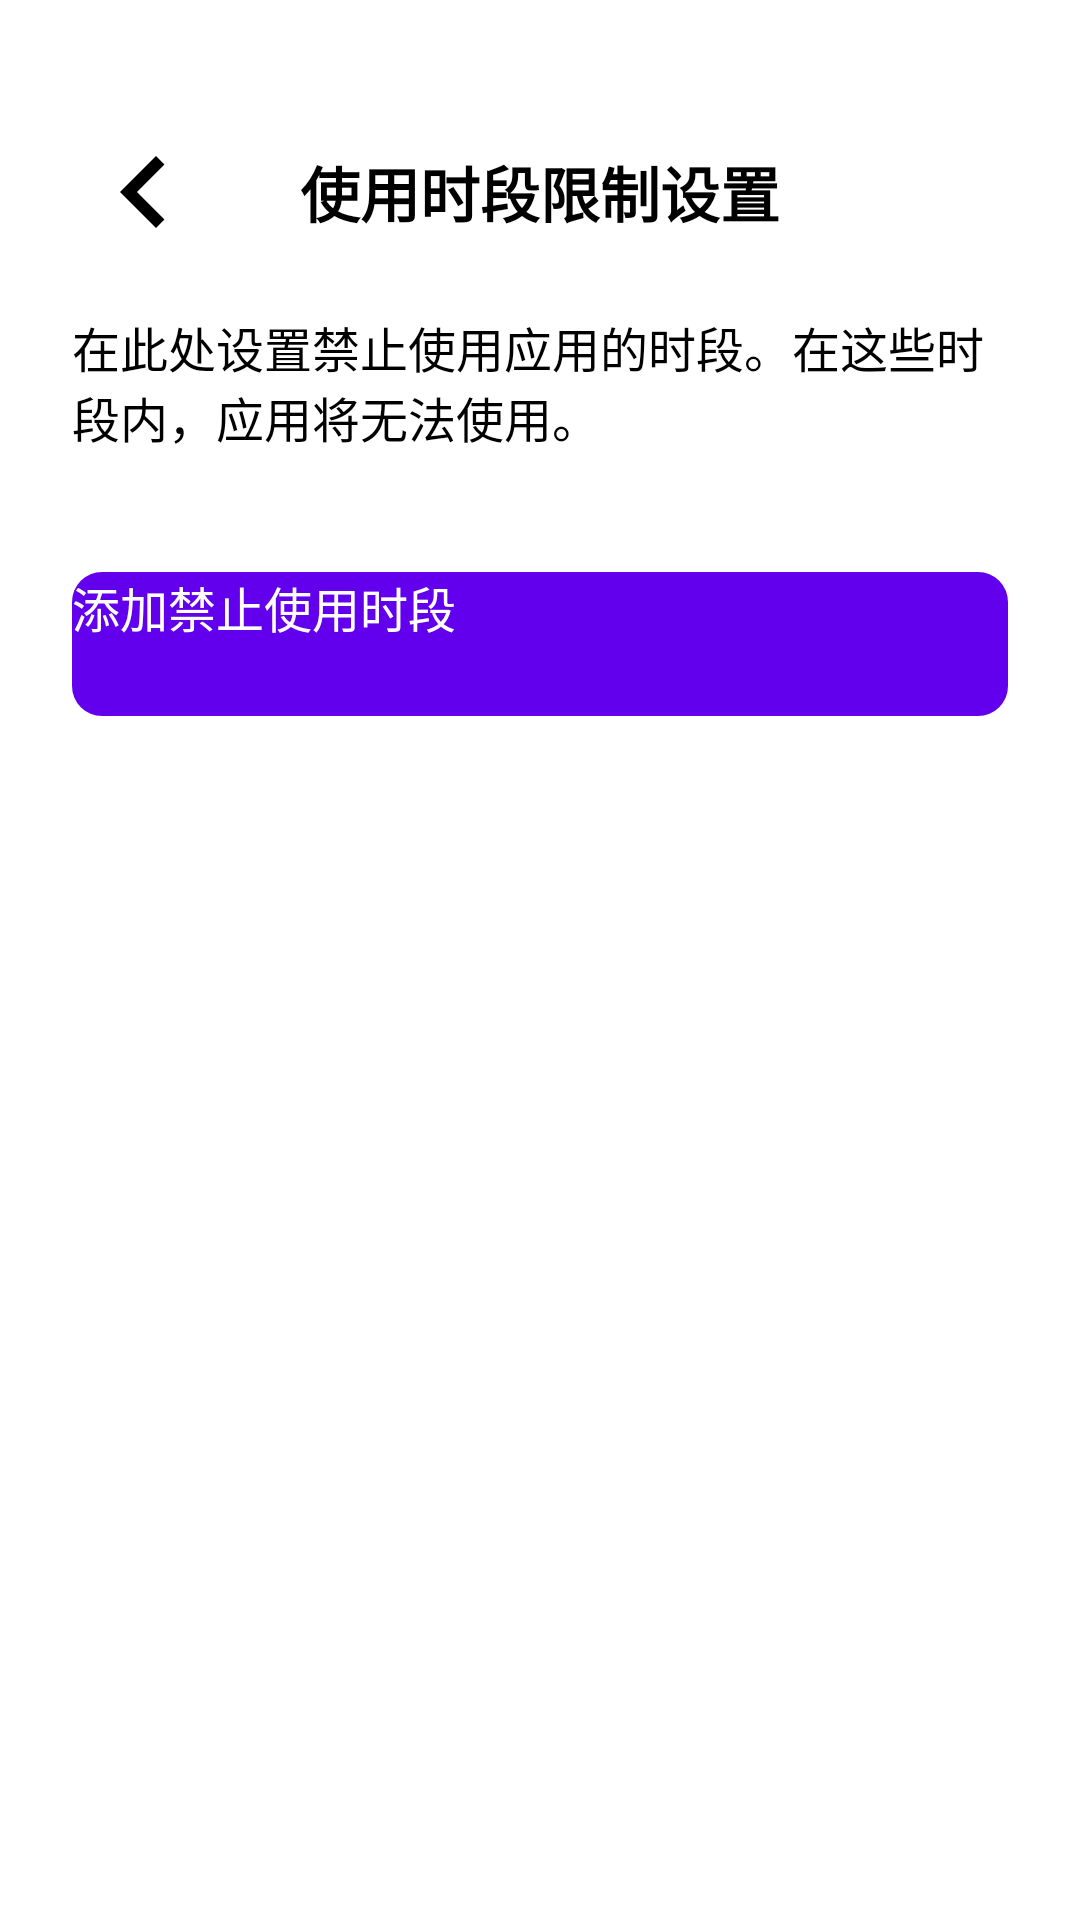

Named icons in this screenshot (1080×1920) and their bounding boxes, detection(x1, y1, x2, y2):
back: detection(120, 156, 165, 228)
